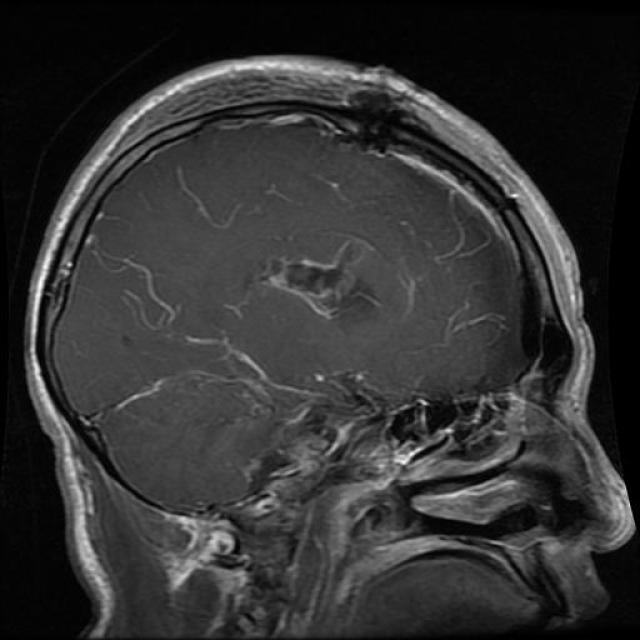glioma: (251, 234, 389, 330)
